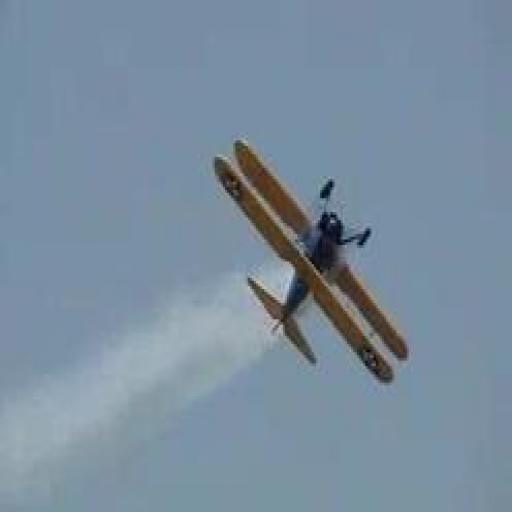aircraft: (210, 135, 413, 388)
